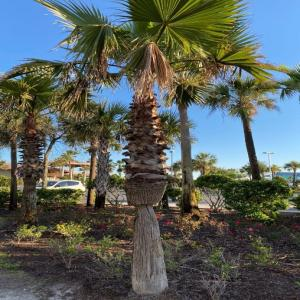palm tree: (58, 99, 131, 209), (206, 75, 280, 180)
